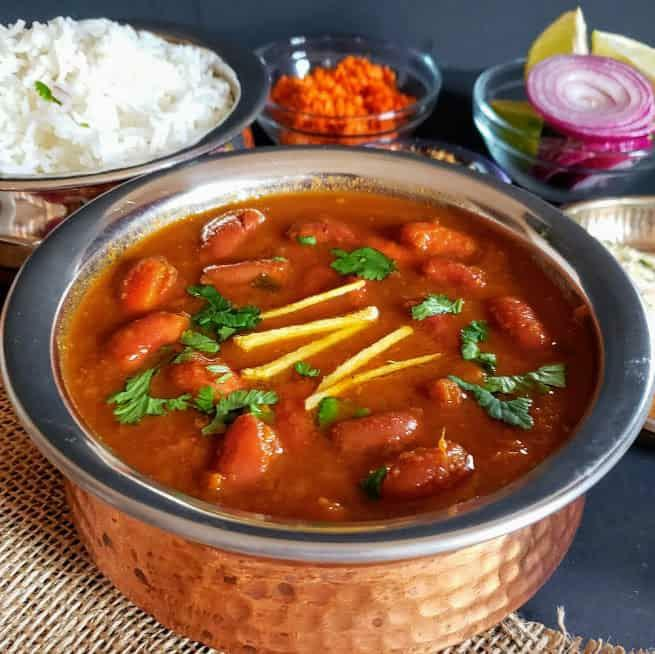RajmaCurry: (65, 188, 593, 526)
WhiteRice: (1, 17, 234, 176)
